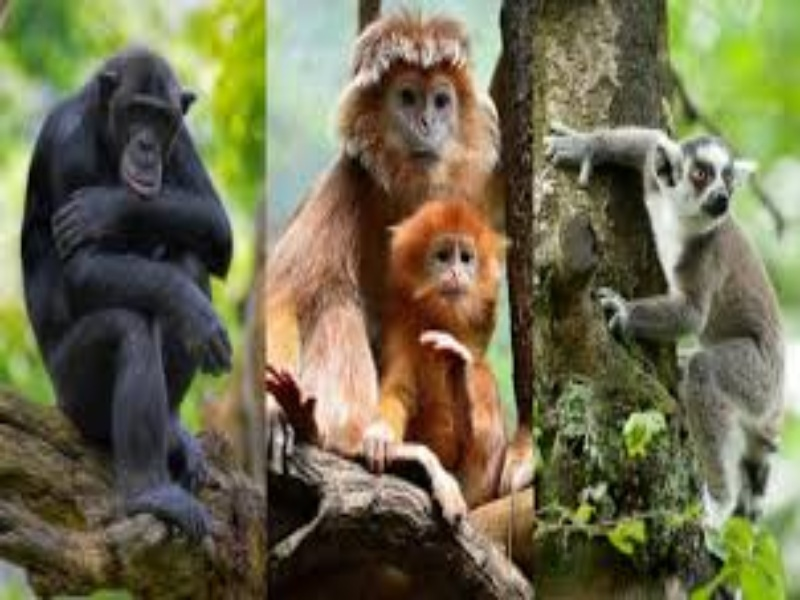monkey: (17, 9, 790, 597)
